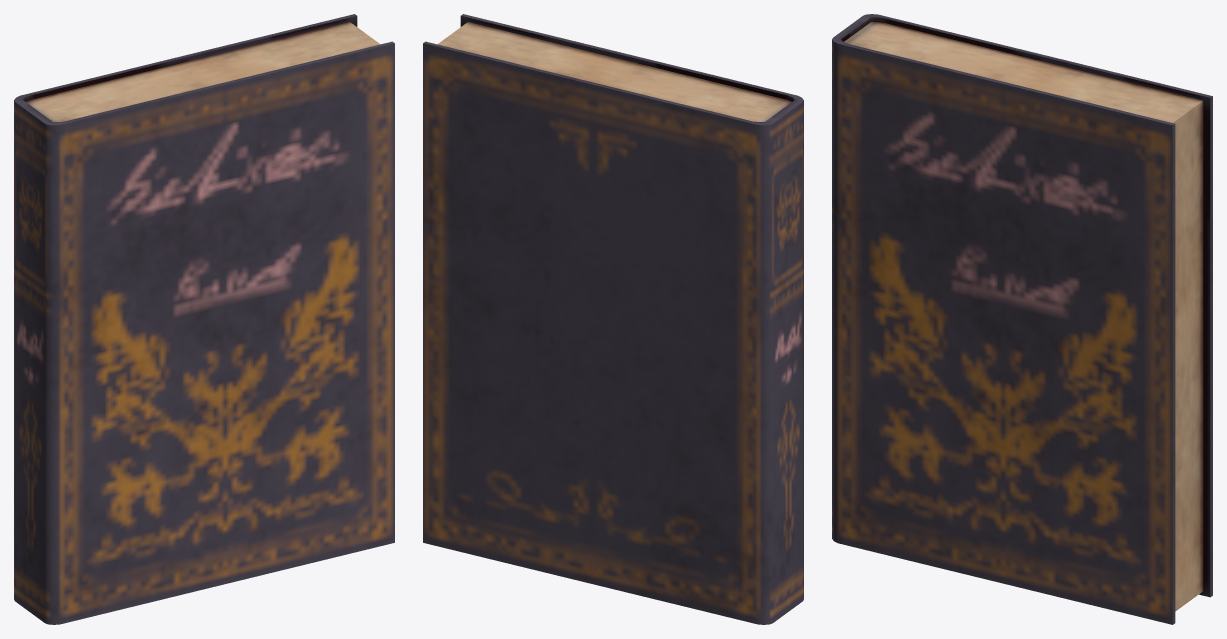
The model's file is sb_obj_indoor048_Book_I.fbx.
3 views of the same model, side by side, from view 1: azimuth 30°, elevation 25°; view 2: azimuth 150°, elevation 25°; view 3: azimuth 330°, elevation 25° (orthographic).
Parts seen in each view (by area): view 1: sb_obj_indoor048_Book_I; view 2: sb_obj_indoor048_Book_I; view 3: sb_obj_indoor048_Book_I.
Part boxes in pixels (x1,y1,x2,y2): sb_obj_indoor048_Book_I: [14, 14, 394, 624]; sb_obj_indoor048_Book_I: [423, 14, 803, 624]; sb_obj_indoor048_Book_I: [832, 14, 1212, 624].
Bounding box in the file's own units: 0.3071 × 0.4251 × 0.0617.
